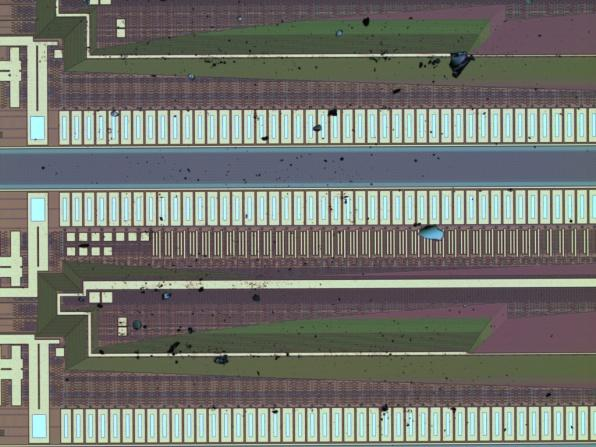PO CONTAMINATION: (40, 1, 564, 429)
